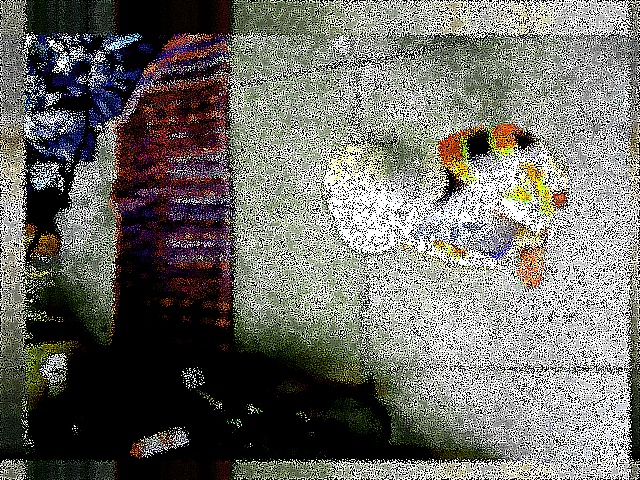eight: (346, 129, 396, 147)
